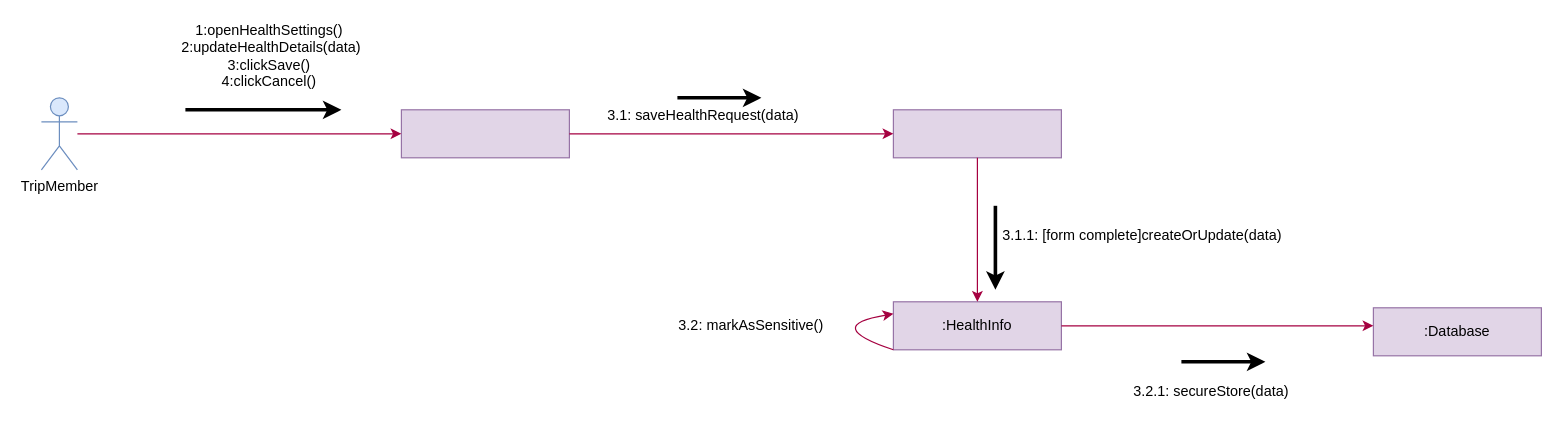
Some shapes in this 1562 by 430 pixel diagram are drawn without their labels. Here are the shapes that lost their labels. From the top down, the centre of each, then its label:
At point (484, 133): ":HealthSettingsPage".
At point (976, 133): ":HealthInfoController".
